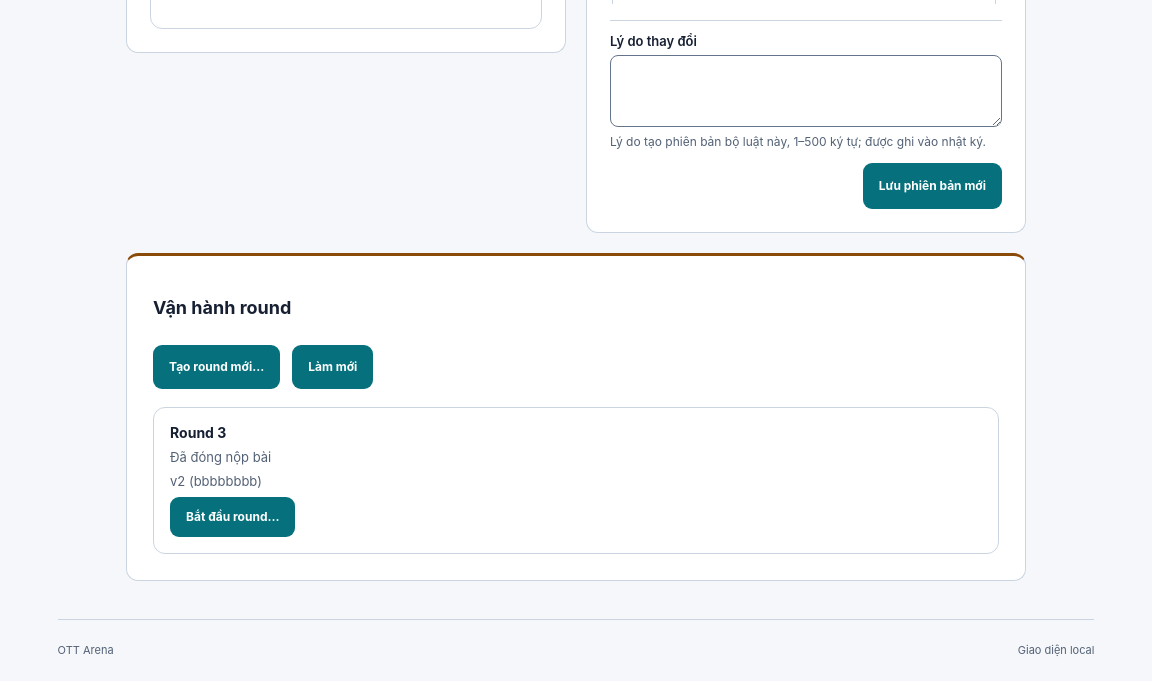
it: RoundAdmin operations console › requires a reason and the round number before confirming start
This screenshot has width=1152, height=681.
(page scrolled)
Expected: the heading "Round 3" is shown, [170,424,226,440]
Click the button "Bắt đầu round…" at (233,516), box [170,496,296,536]
(page scrolled)
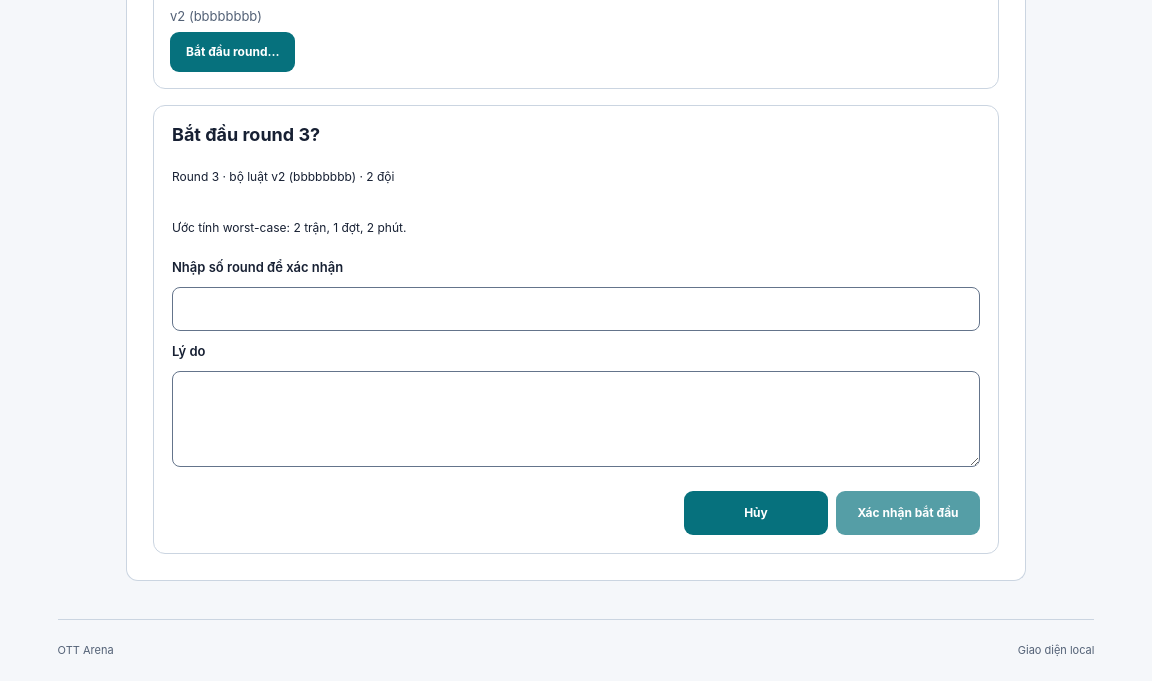
Now the button "Xác nhận bắt đầu" is disabled, box [836,490,980,534]
Type "Đủ điều kiện chạy" into the text box labelled "Lý do" at (576,418), box [172,370,980,466]
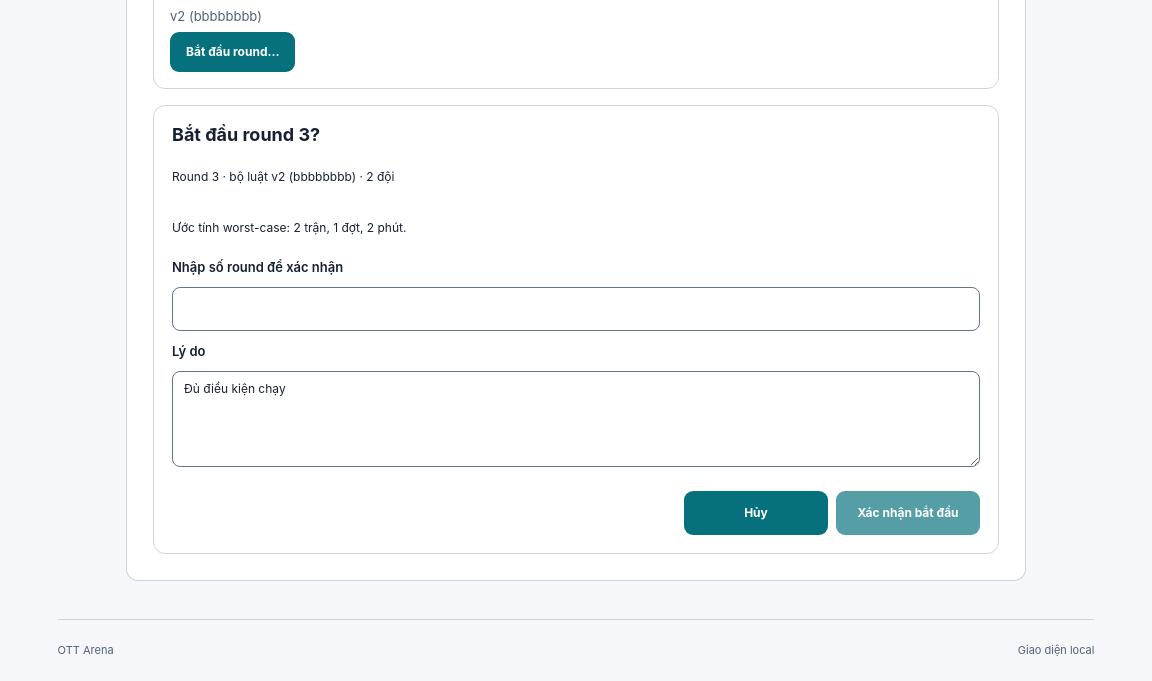
Now the button "Xác nhận bắt đầu" is disabled, box [836,490,980,534]
Type "999" into the field labelled "Nhập số round để xác nhận" at (576,308), box [172,286,980,330]
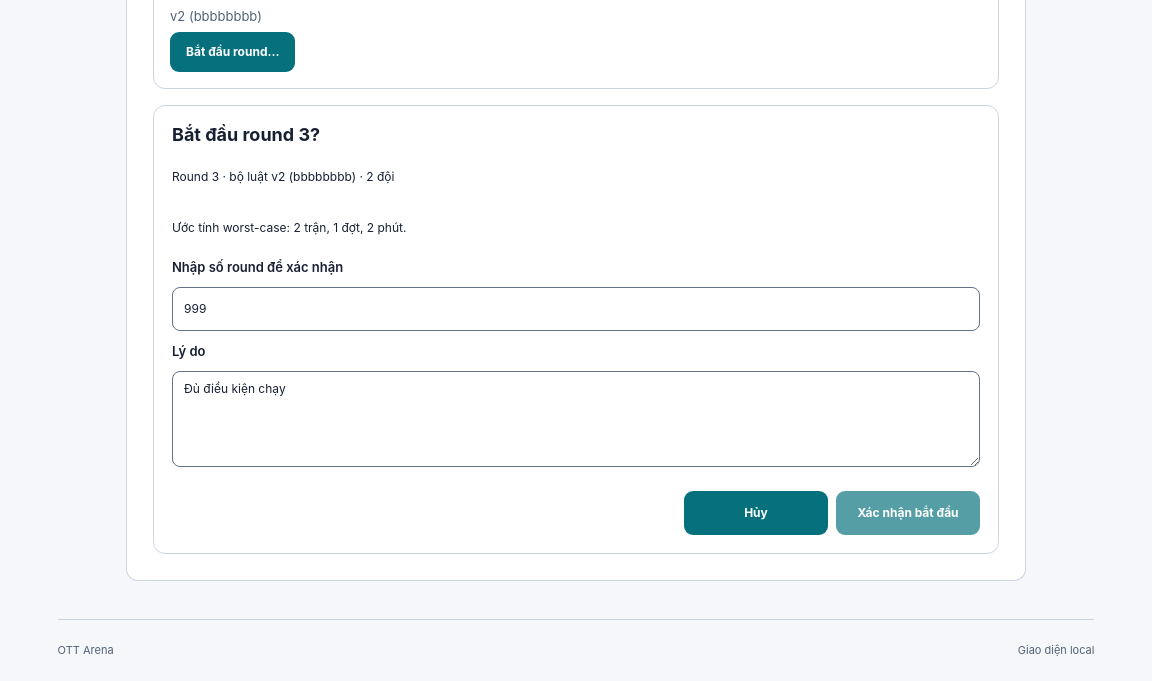
Now the button "Xác nhận bắt đầu" is disabled, box [836,490,980,534]
Replace the text in the field labelled "Nhập số round để xác nhận" with "3" at (576,308), box [172,286,980,330]
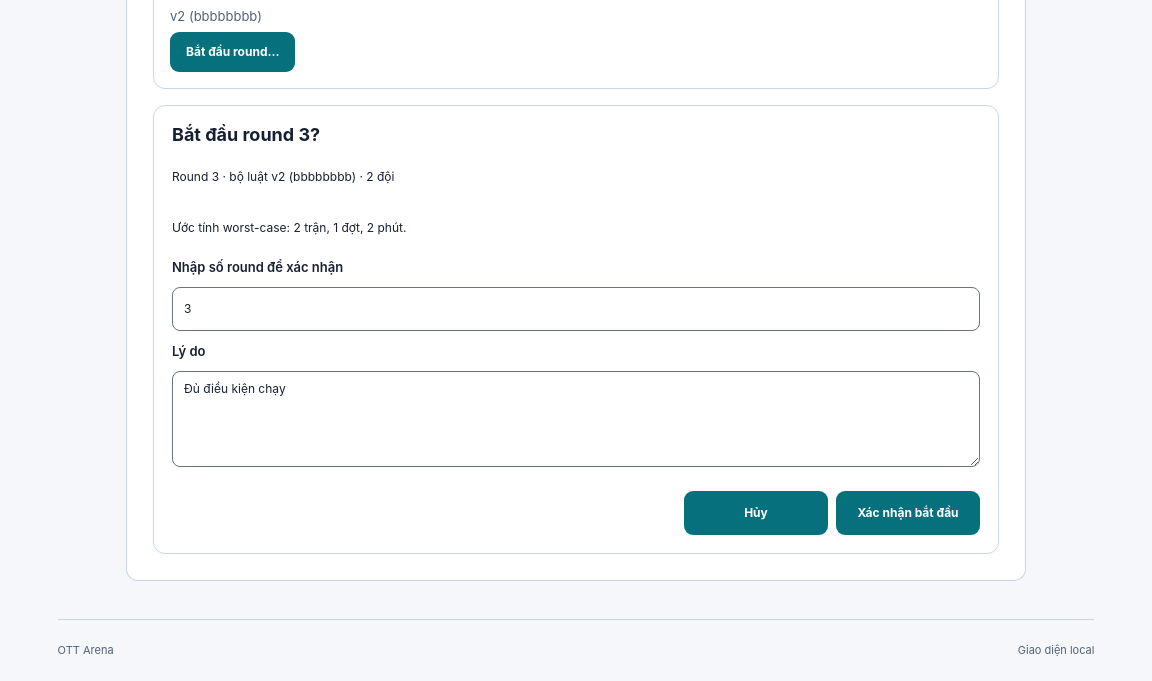
Now the button "Xác nhận bắt đầu" is enabled, box [836,490,980,534]
